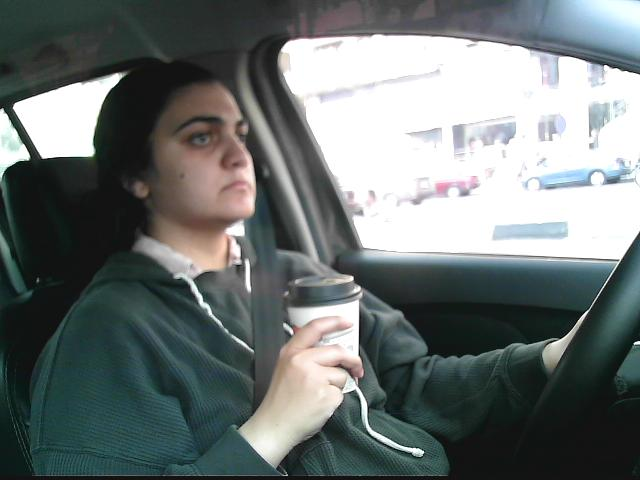Drinking: (282, 268, 366, 399)
